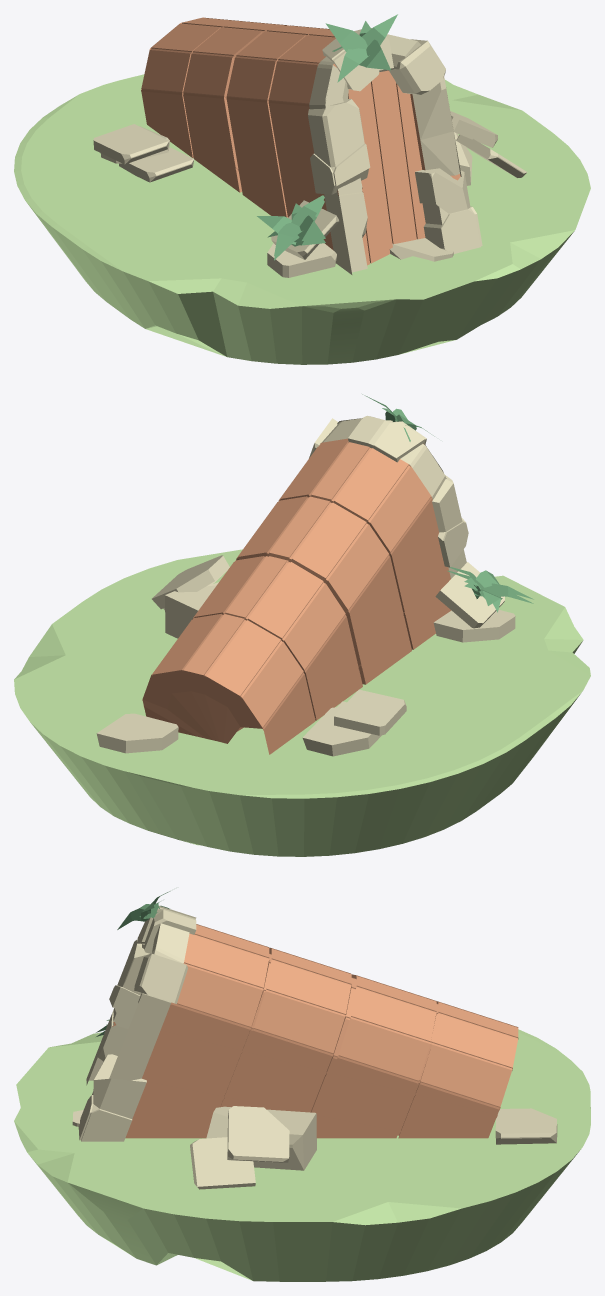
The model's file is Low Poly Low Texture .fbx.
The picture shows the model from 3 angles, top to bottom: view 1: azimuth 30°, elevation 25°; view 2: azimuth 150°, elevation 25°; view 3: azimuth 270°, elevation 25°; orthographic projection. The views are drawn at different scales.
Visible parts, largest first — view 1: Plane.003, Plane, Plane.002, Plane.004, Plane.009, Plane.001, Plane.006, Plane.007, Plane.014, Plane.012, Plane.011, Plane.005 (+5 smaller); view 2: Plane.003, Plane, Plane.002, Plane.010, Plane.009, Plane.008, Plane.001, Plane.005, Plane.006, Plane.011, Plane.013; view 3: Plane.003, Plane, Plane.002, Plane.001, Plane.011, Plane.013, Plane.012, Plane.010.
Part boxes in pixels (x1,y1,x2,y2): Plane.003: (14, 74, 590, 364); Plane: (141, 17, 460, 272); Plane.002: (308, 28, 482, 253); Plane.004: (348, 70, 425, 265); Plane.009: (93, 124, 169, 164); Plane.001: (309, 56, 461, 274); Plane.006: (267, 243, 336, 277); Plane.007: (119, 147, 194, 182); Plane.014: (389, 238, 453, 261); Plane.012: (456, 134, 527, 177); Plane.011: (450, 111, 497, 147); Plane.005: (271, 200, 338, 259); Plane.003: (14, 549, 590, 856); Plane: (142, 418, 451, 754); Plane.002: (309, 415, 468, 567); Plane.010: (96, 713, 178, 753); Plane.009: (334, 689, 406, 735); Plane.008: (302, 707, 381, 756); Plane.001: (322, 418, 466, 578); Plane.005: (435, 562, 504, 628); Plane.006: (433, 610, 515, 642); Plane.011: (152, 555, 229, 609); Plane.013: (165, 582, 218, 638); Plane.003: (14, 1029, 590, 1281); Plane: (86, 924, 518, 1138); Plane.002: (78, 905, 196, 1141); Plane.001: (86, 923, 189, 1080); Plane.011: (227, 1106, 289, 1162); Plane.013: (206, 1106, 316, 1170); Plane.012: (190, 1137, 255, 1189); Plane.010: (495, 1108, 557, 1144).
Bounding box in the file's own units: 1292 × 793 × 1401.
